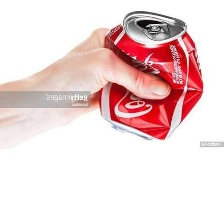can: (95, 2, 210, 144)
